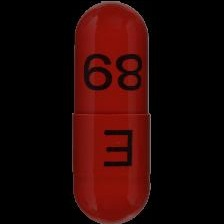65862-697: (0, 0, 224, 224)
